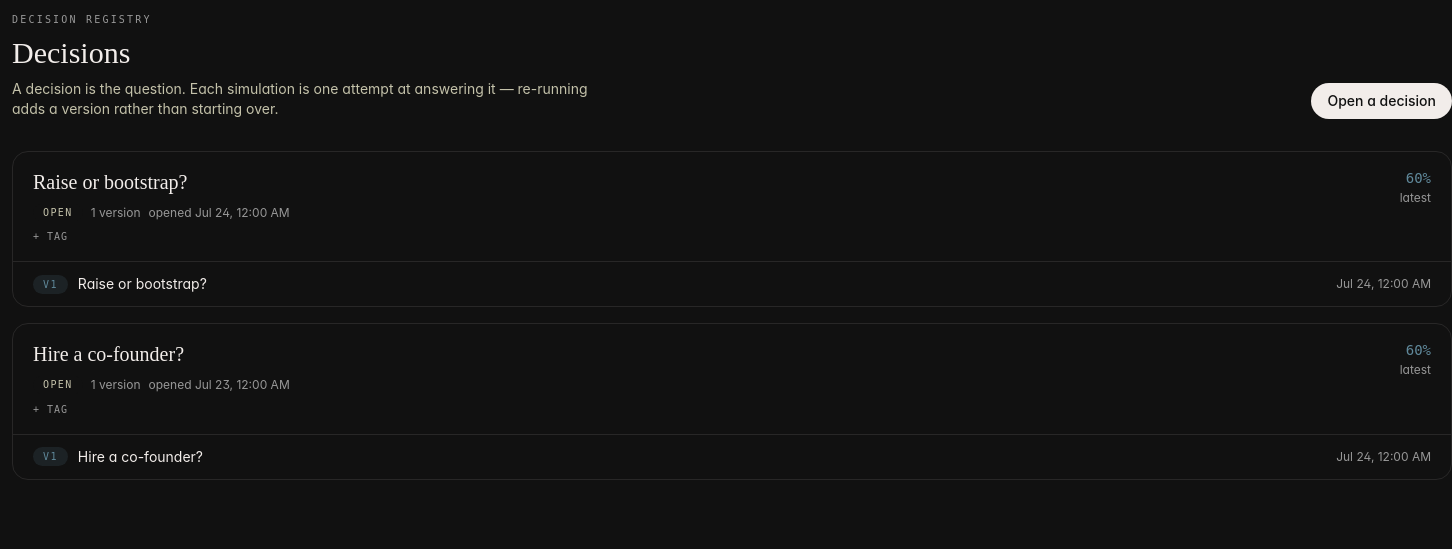
DecisionsPage tagging › filters the decision list to only rows carrying the active tag
Step 1. Type "Funding" into the 1st field with placeholder "+ tag" → (65, 237), box [33,229,97,245]
Then press Enter
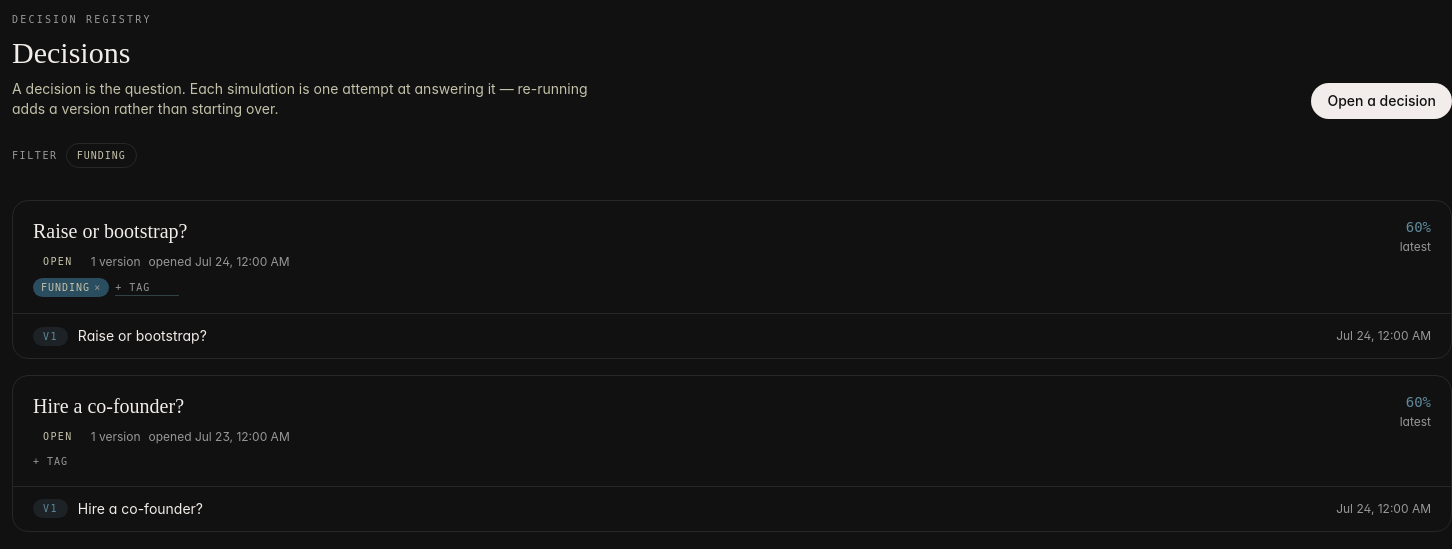
Step 2. Click the button "Funding" → (101, 156), box [66,143,137,168]
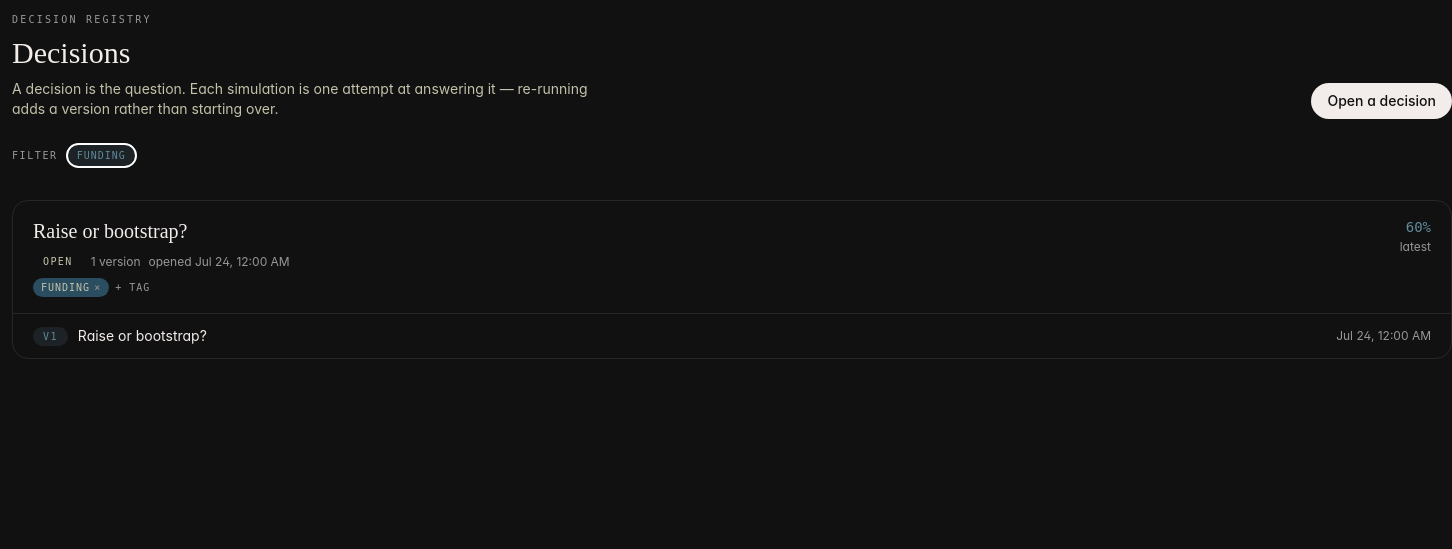
Expected: the link "Raise or bootstrap?" is shown, [33,220,187,242]
Result: the number of list items with test id "decision-row" is 1 at [12,200,1451,359]
Result: the link "Hire a co-founder?" is gone
